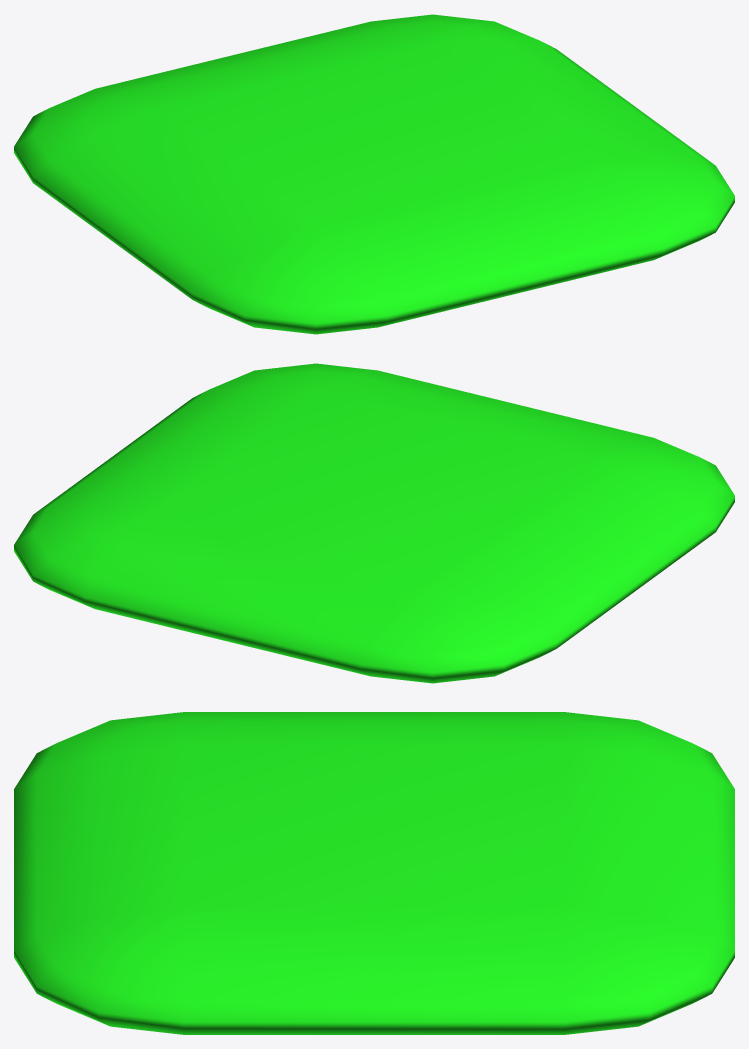
The model's file is sack.FBX.
3 views of the same model, one above another, from view 1: azimuth 30°, elevation 25°; view 2: azimuth 150°, elevation 25°; view 3: azimuth 270°, elevation 25° (orthographic). The views are drawn at different scales.
Parts seen in each view (by area): view 1: ChamferBox001; view 2: ChamferBox001; view 3: ChamferBox001.
Part boxes in pixels (<box>): ChamferBox001: <box>14,14,734,334</box>; ChamferBox001: <box>14,363,734,683</box>; ChamferBox001: <box>14,712,734,1034</box>.
Size of what is drawn, in the model's own units: 0.127 by 0.0184 by 0.127.
